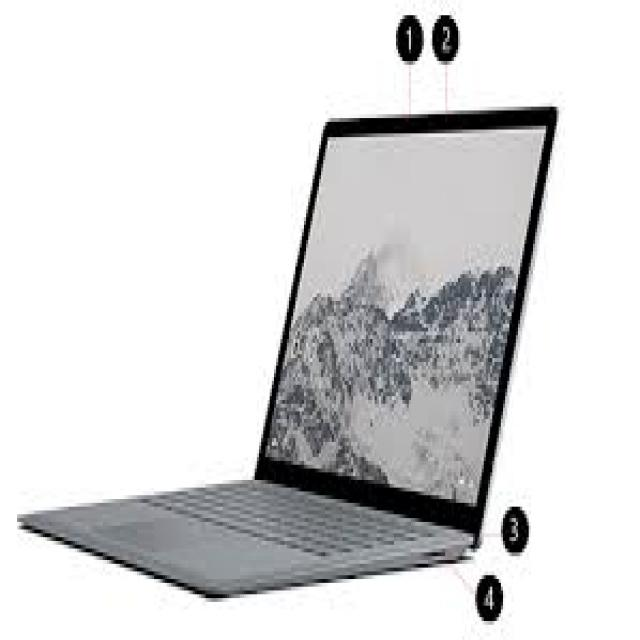others: (6, 4, 572, 613)
